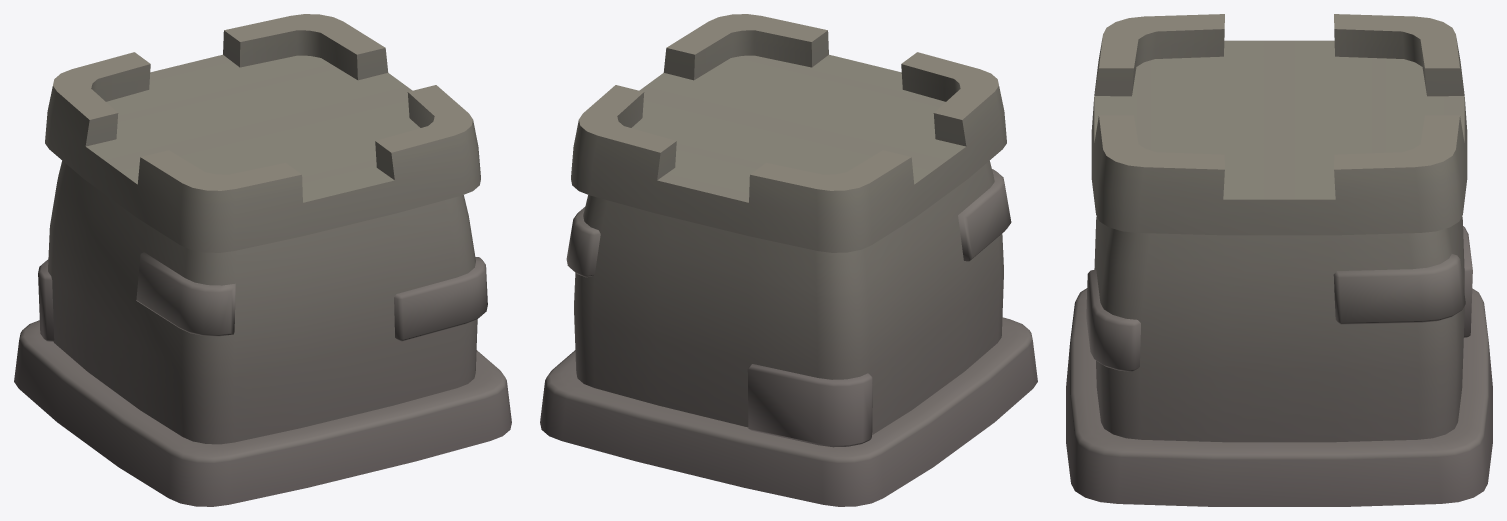
Rendered from mageTower_lvl1.fbx.
The picture shows the model from 3 angles, left to right: view 1: azimuth 30°, elevation 25°; view 2: azimuth 150°, elevation 25°; view 3: azimuth 270°, elevation 25°; orthographic projection. The views are drawn at different scales.
Visible parts, largest first — view 1: mageTower_lvl1; view 2: mageTower_lvl1; view 3: mageTower_lvl1.
Boxes of the visible parts, bbox=[...] form: mageTower_lvl1: bbox=[14, 14, 511, 506]; mageTower_lvl1: bbox=[540, 14, 1037, 506]; mageTower_lvl1: bbox=[1066, 14, 1492, 506].
Bounding box in the file's own units: 161 × 132 × 158.
